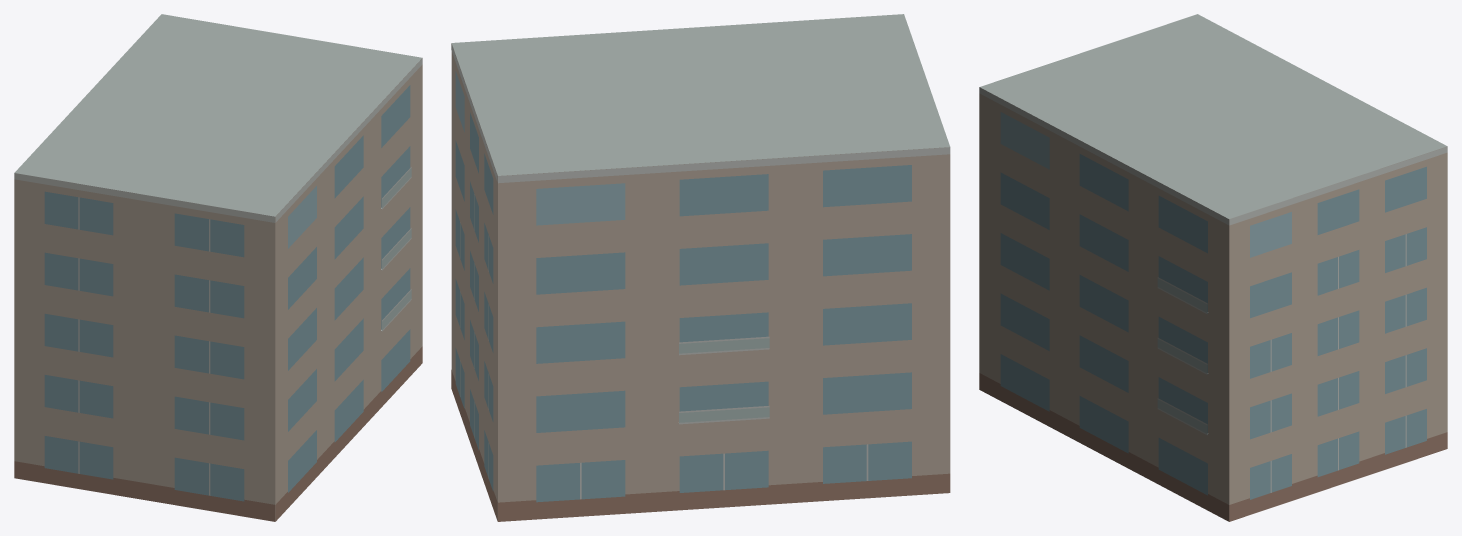
Rendered from survey-upis-32834877.glb.
3 views of the same model, side by side, from view 1: azimuth 30°, elevation 25°; view 2: azimuth 150°, elevation 25°; view 3: azimuth 270°, elevation 25° (orthographic). The views are drawn at different scales.
Parts seen in each view (by area): view 1: survey-upis-32834877.tmp; view 2: survey-upis-32834877.tmp; view 3: survey-upis-32834877.tmp.
Part boxes in pixels (x1,y1,x2,y2): survey-upis-32834877.tmp: (14,14,422,521); survey-upis-32834877.tmp: (451,14,950,521); survey-upis-32834877.tmp: (979,14,1447,521).
Bounding box in the file's own units: 17.03 × 11.7 × 16.41.
